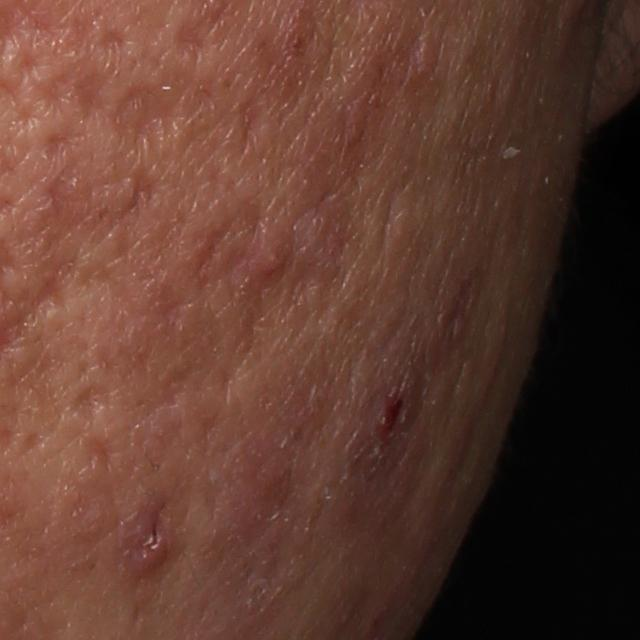atrophic_scar: (111, 85, 182, 158), (109, 162, 165, 243), (170, 13, 216, 67), (74, 71, 113, 123), (72, 381, 113, 427), (94, 22, 133, 60)
papule: (216, 438, 302, 538), (356, 381, 419, 467), (118, 502, 174, 581), (255, 220, 303, 280)
